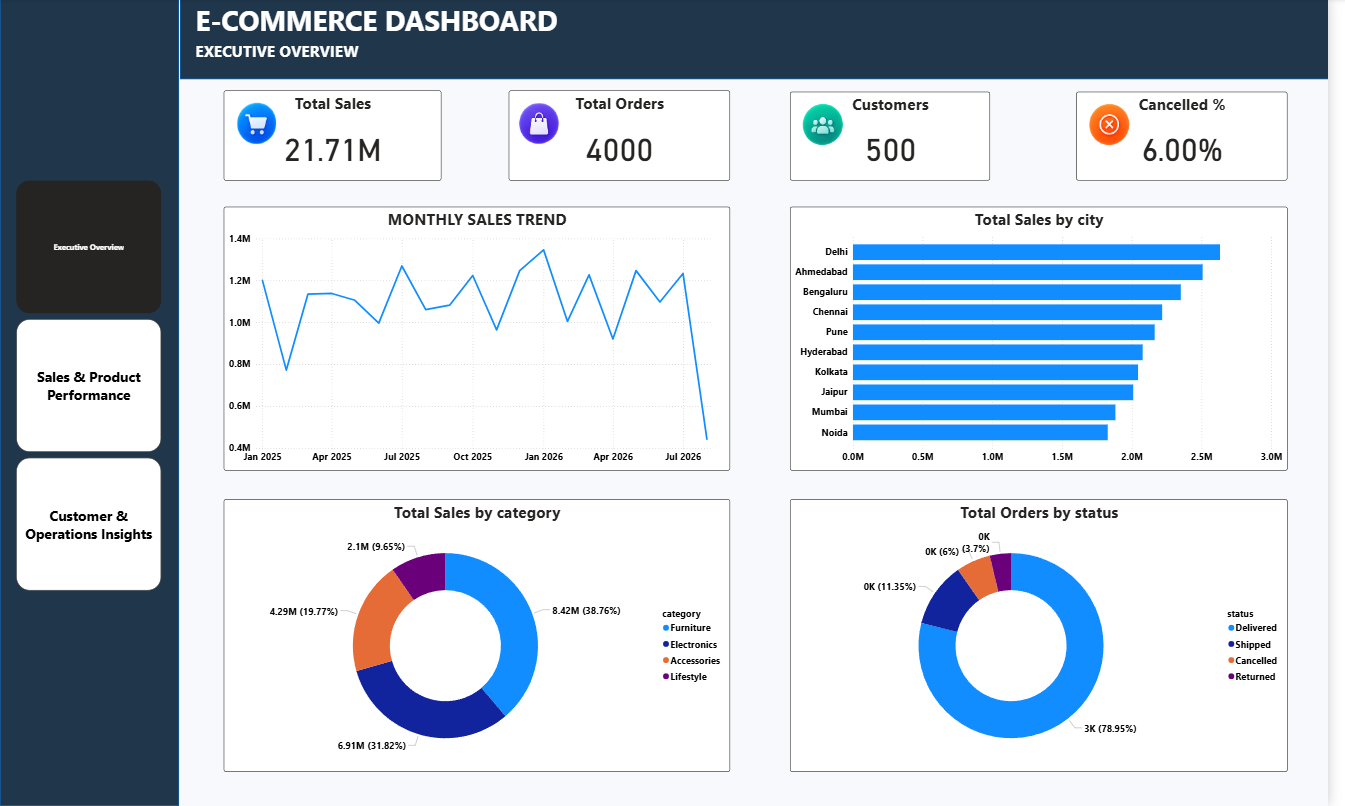

The page's visual inventory and layout, read from the dashboard file:
{"tool":"powerbi","page":{"name":"Executive Overview","canvas":[2300,1400],"ordinal":0},"visuals":[{"type":"card","title":"Total Sales","fields":{"Values":["ecommerce_ai orders.Total Sales"]},"box":[387.4,160.2,376.6,155.8],"z":0},{"type":"card","title":"Total Orders ","fields":{"Values":["ecommerce_ai orders.Total Orders"]},"box":[881,160.2,383.1,155.8],"z":1000},{"type":"card","title":"Customers","fields":{"Values":["ecommerce_ai orders.Total Customers"]},"box":[1368,162.3,346.3,153.7],"z":2000},{"type":"card","title":" Cancelled % ","fields":{"Values":["ecommerce_ai orders.Cancelled Order %"]},"box":[1863.6,162.3,365.8,153.7],"z":3000},{"type":"lineChart","title":" MONTHLY SALES TREND","fields":{"Y":["ecommerce_ai orders.Total Sales"],"Category":["ecommerce_ai orders.Year Month Date"]},"box":[387.4,361.5,876.6,456.7],"z":4000},{"type":"clusteredBarChart","fields":{"Category":["ecommerce_ai customers.city"],"Y":["ecommerce_ai orders.Total Sales"]},"box":[1368,361.5,861.5,456.7],"z":5000},{"type":"donutChart","fields":{"Category":["ecommerce_ai products.category"],"Y":["ecommerce_ai orders.Total Sales"]},"box":[387.4,868,876.6,471.9],"z":6000},{"type":"donutChart","fields":{"Category":["ecommerce_ai orders.status"],"Y":["ecommerce_ai orders.Total Orders"]},"box":[1368,868,861.5,471.9],"z":7000},{"type":"shape","box":[0,0,310,1399],"z":8000},{"type":"shape","box":[310.7,0,1989.8,140.5],"z":9000},{"type":"textbox","box":[333.3,0,809.5,90.9],"z":10000},{"type":"textbox","box":[333.3,69.3,487,49.8],"z":11000},{"type":"pageNavigator","box":[28.1,316,251.1,712.1],"z":12000},{"type":"image","box":[387.4,160.2,106.1,97.4],"z":13000},{"type":"image","box":[881,160.2,103.9,97.4],"z":14000},{"type":"image","box":[1368,162.3,114.7,97.4],"z":14001},{"type":"image","box":[1863.6,162.3,116.9,97.4],"z":14002}]}

Visuals, with their boxes on the page's 2300x1400 design canvas (x1, y1, x2, y2). These are canvas units, not pixel positions in the 1345x806 screenshot, which may show the page scaled, cropped or inside an application window:
"Total Sales" card: <box>387,160,764,316</box>
"Total Orders " card: <box>881,160,1264,316</box>
"Customers" card: <box>1368,162,1714,316</box>
" Cancelled % " card: <box>1864,162,2229,316</box>
" MONTHLY SALES TREND" lineChart: <box>387,362,1264,818</box>
clusteredBarChart - ecommerce_ai customers.city x ecommerce_ai orders.Total Sales: <box>1368,362,2230,818</box>
donutChart - ecommerce_ai products.category x ecommerce_ai orders.Total Sales: <box>387,868,1264,1340</box>
donutChart - ecommerce_ai orders.status x ecommerce_ai orders.Total Orders: <box>1368,868,2230,1340</box>
shape: <box>0,0,310,1399</box>
shape: <box>311,0,2300,140</box>
textbox: <box>333,0,1143,91</box>
textbox: <box>333,69,820,119</box>
pageNavigator: <box>28,316,279,1028</box>
image: <box>387,160,494,258</box>
image: <box>881,160,985,258</box>
image: <box>1368,162,1483,260</box>
image: <box>1864,162,1980,260</box>
